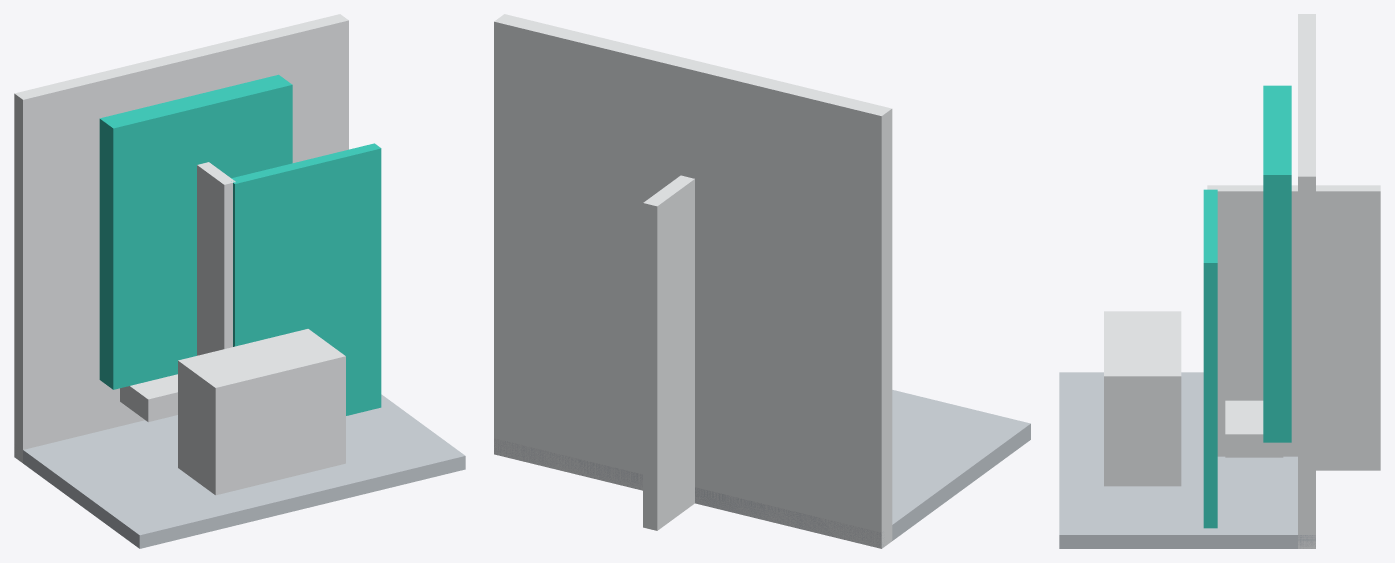
3 views of the same model, side by side, from view 1: azimuth 30°, elevation 25°; view 2: azimuth 150°, elevation 25°; view 3: azimuth 270°, elevation 25° (orthographic). The views are drawn at different scales.
Parts seen in each view (by area): view 1: Exhibition Booth Concept; view 2: Exhibition Booth Concept; view 3: Exhibition Booth Concept.
Part boxes in pixels (x1,y1,x2,y2): Exhibition Booth Concept: [14, 14, 465, 548]; Exhibition Booth Concept: [494, 14, 1030, 548]; Exhibition Booth Concept: [1059, 14, 1380, 548].
Bounding box in the file's own units: 3 × 3.2 × 2.5.
